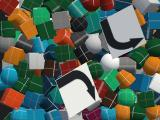Left: (99, 5, 147, 60)
Right: (56, 62, 100, 118)
